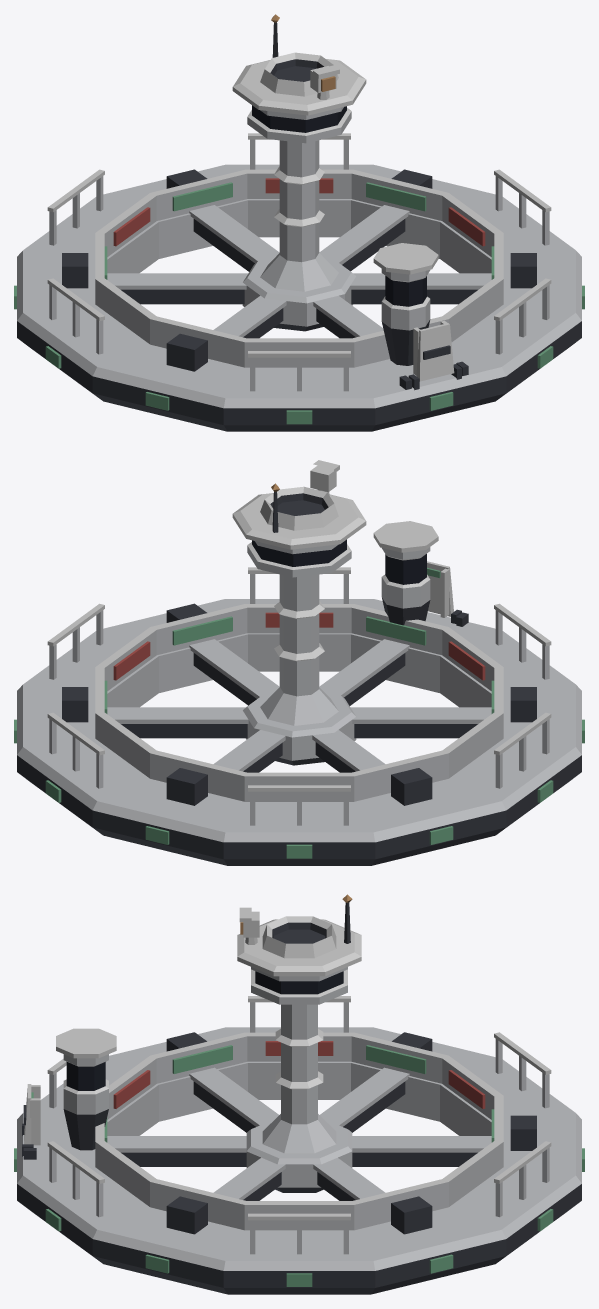
The model's file is docking-ring-7b4286.glb.
The picture shows the model from 3 angles, top to bottom: view 1: azimuth 30°, elevation 25°; view 2: azimuth 150°, elevation 25°; view 3: azimuth 270°, elevation 25°; orthographic projection.
Visible parts, largest first — view 1: ring, gangway, beacon; view 2: ring, gangway, beacon; view 3: ring, gangway, beacon.
Part boxes in pixels (x1,y1,x2,y2): ring: (14,14,584,431); gangway: (408,320,461,390); beacon: (310,65,339,99); ring: (14,483,584,865); gangway: (427,561,461,623); beacon: (310,460,339,495); ring: (14,894,584,1294); gangway: (22,1084,40,1156); beacon: (239,907,259,944).
Size of the model in its own units: 9.76 by 5.41 by 9.76.
